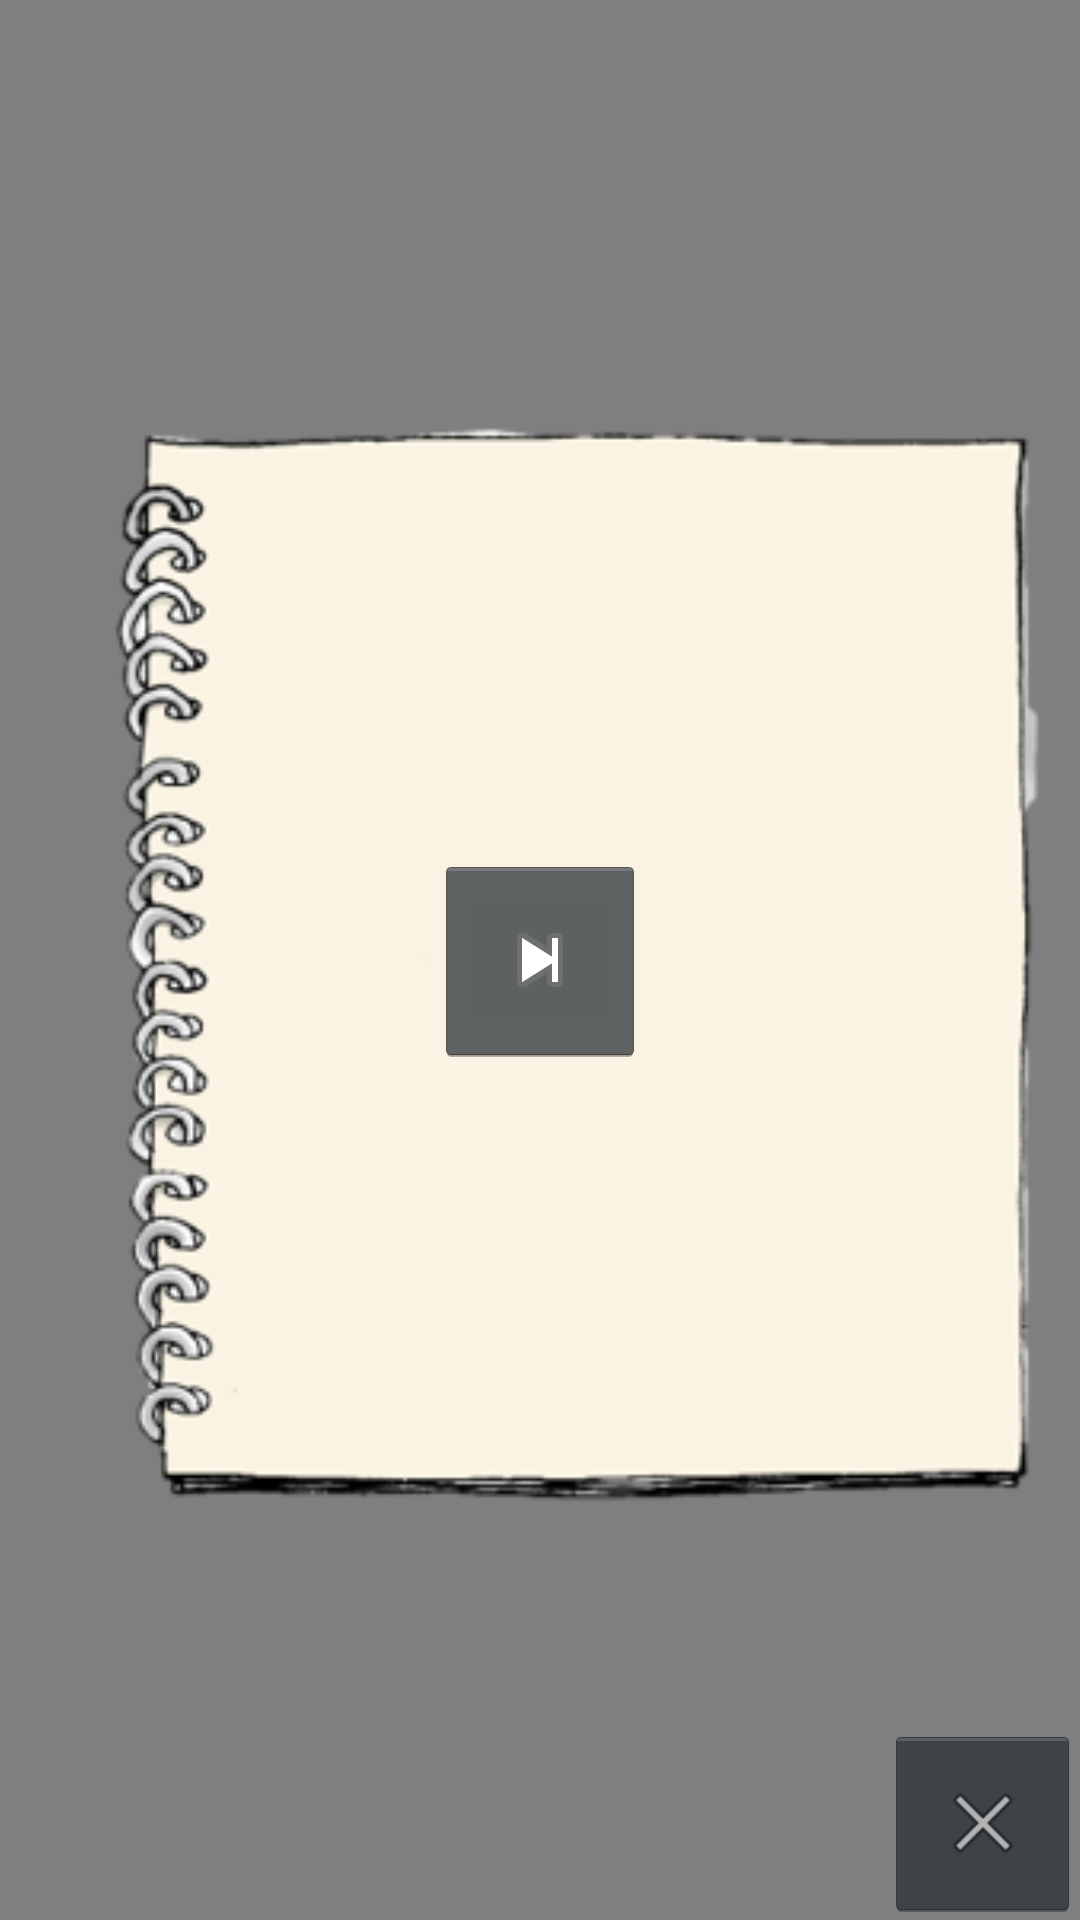

Icon bounding boxes for this 1080w x 1920h phone screenshot, format bbox(x1, y1, x2, y2):
close clear cancel: bbox(896, 1737, 1069, 1912)
next: bbox(446, 867, 634, 1057)
